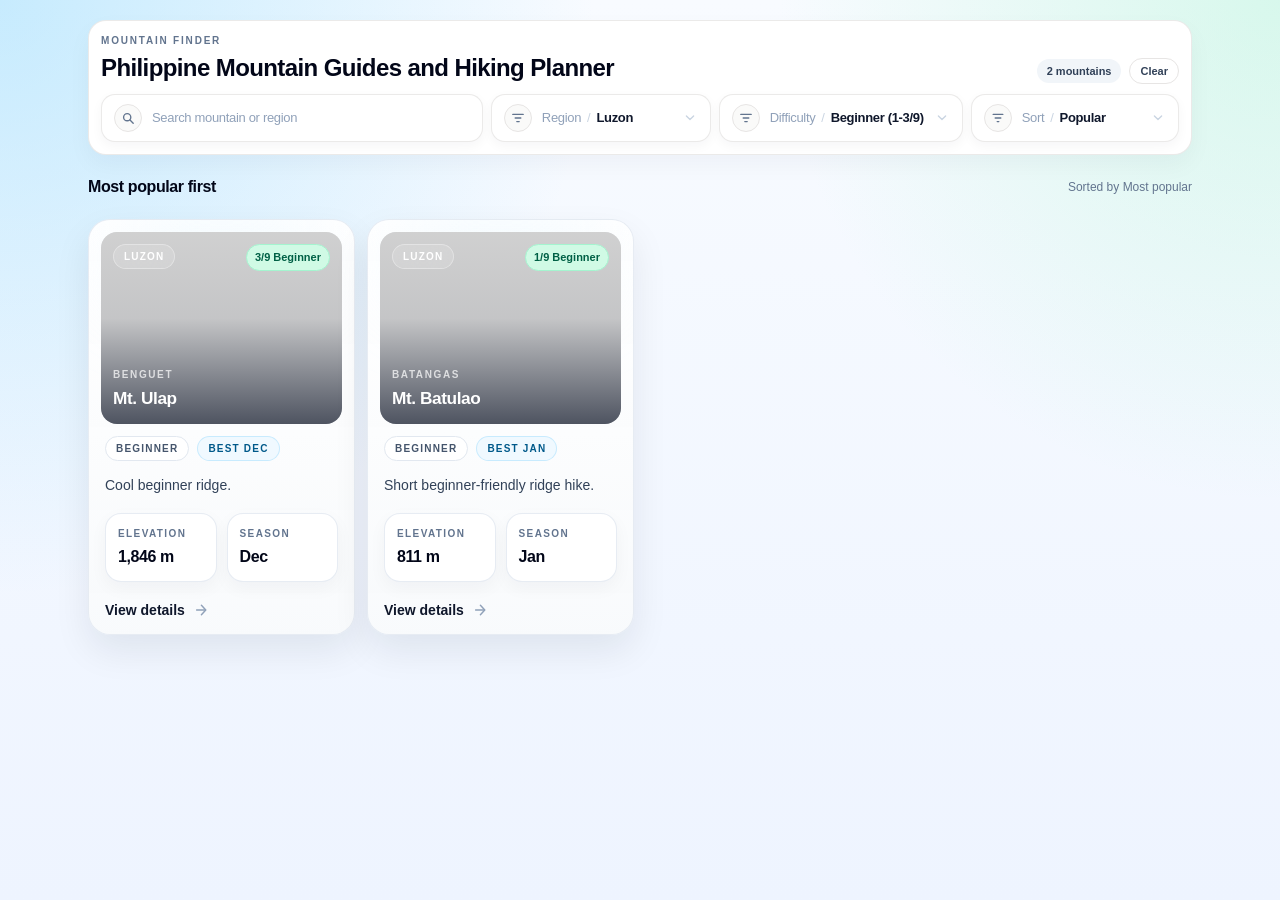
Test case: MountainListClient › still lets users change sort after the lighter first-load defaults
The image size is (1280, 900).
Click the button with aria-label "Sort mountains" at (1075, 118), box [971,94,1179,142]
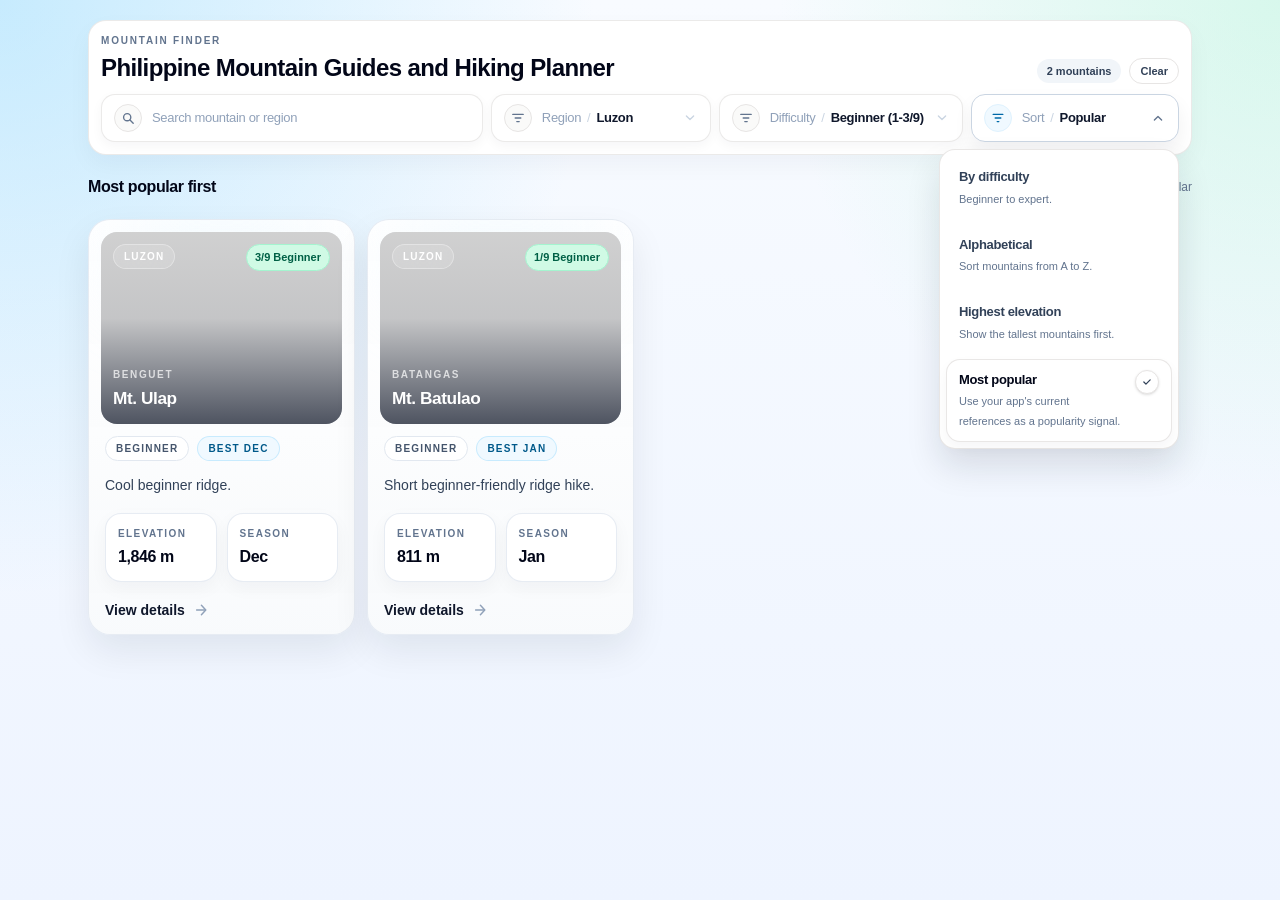
Click the menu item "Alphabetical Sort mountains from A to Z." at (1059, 255), box [946,224,1172,287]
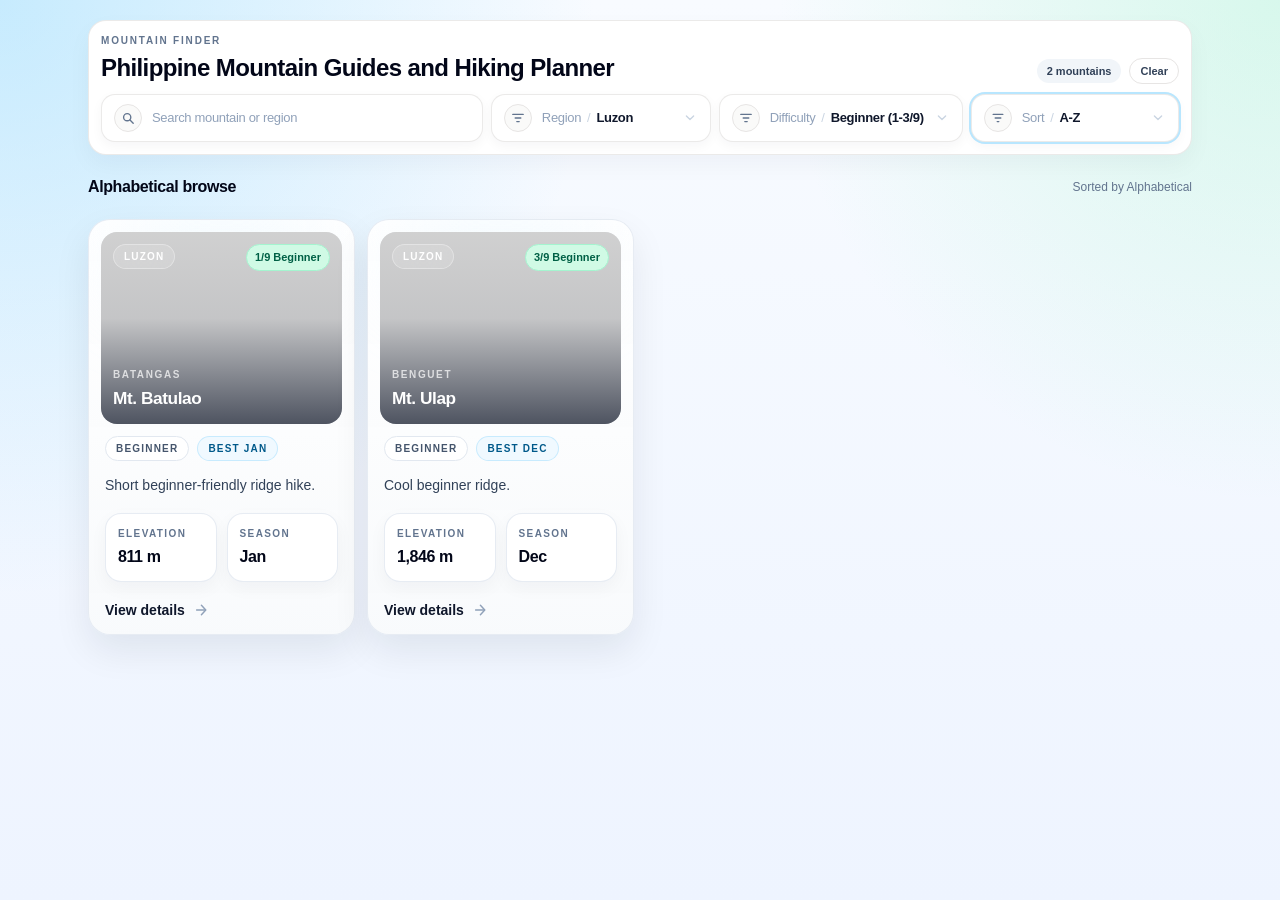
Result: the heading "Alphabetical browse" is shown at [88,175,236,199]
